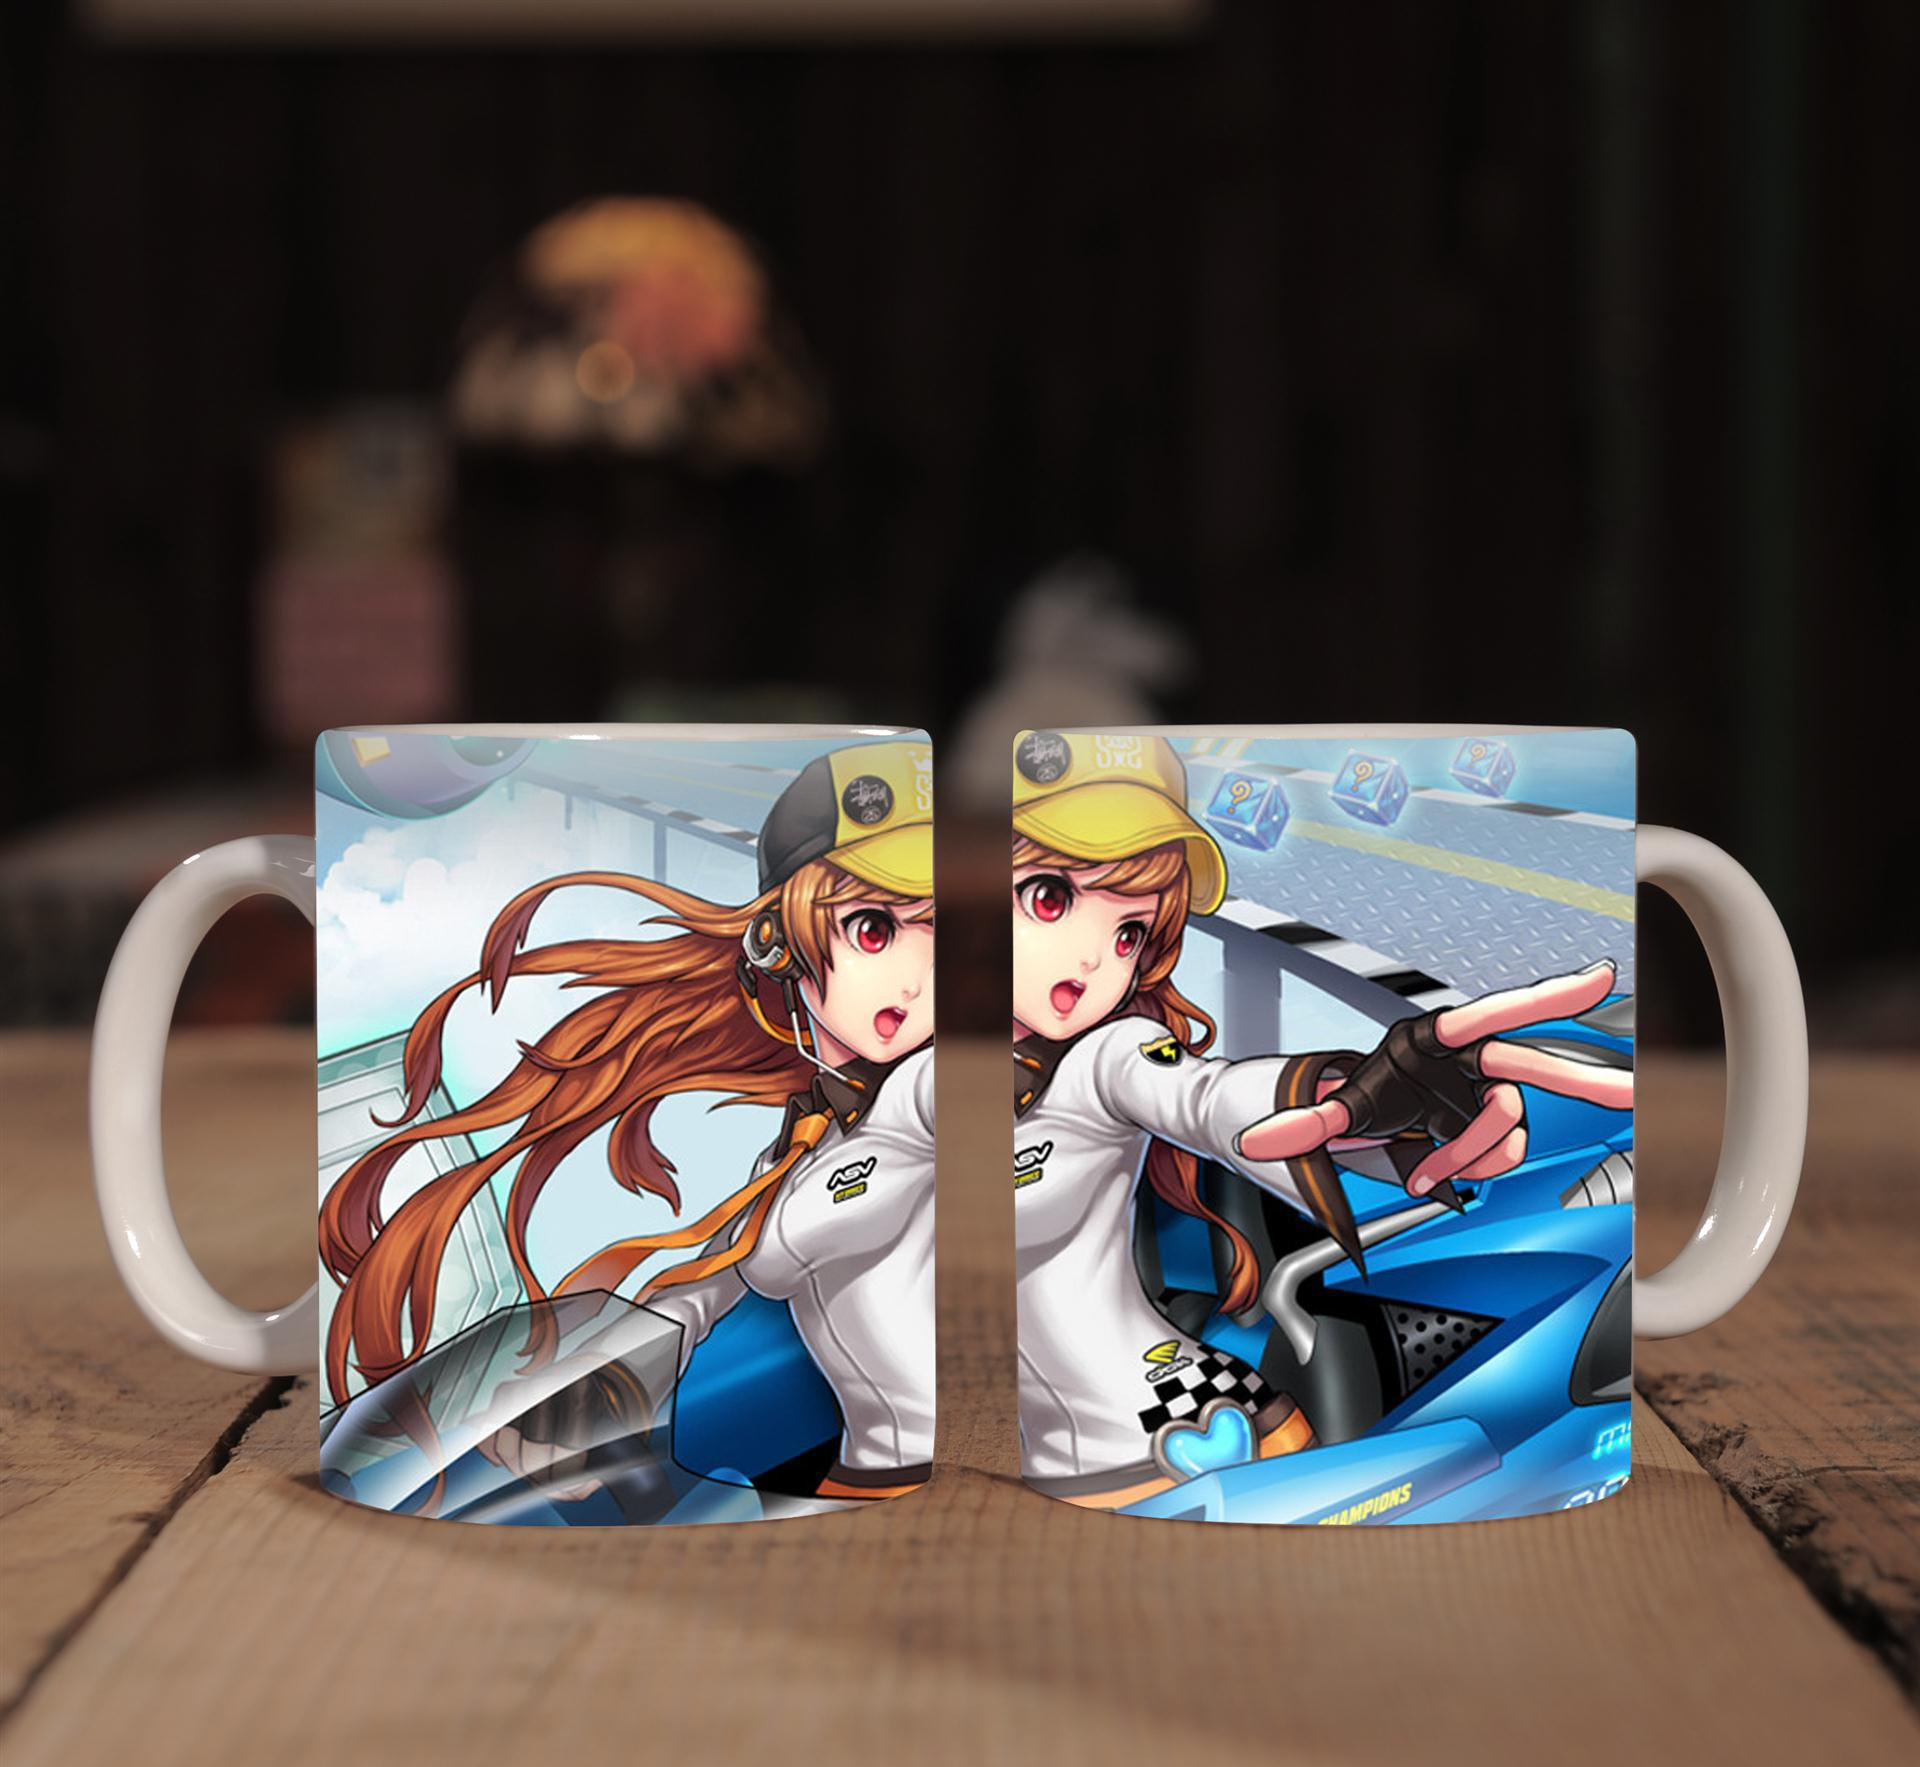cup: (79, 709, 942, 1533), (1007, 721, 1813, 1535)
